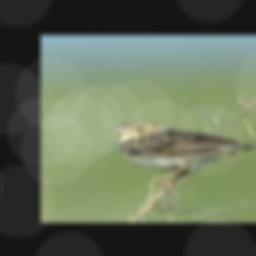Sparrow: (100, 118, 256, 194)
